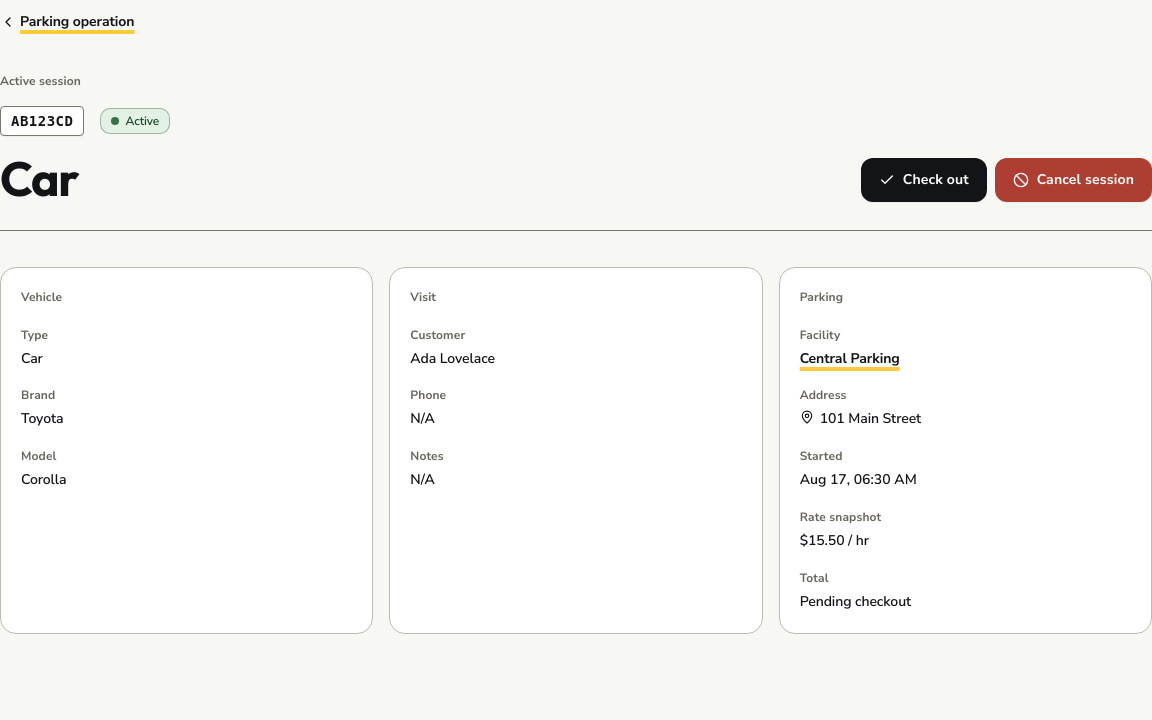
it: parking session completion › requires an explicit destructive cancellation action for an active session
Click the button "Cancel session".
click(1073, 180)  # box 995,158 -> 1151,202
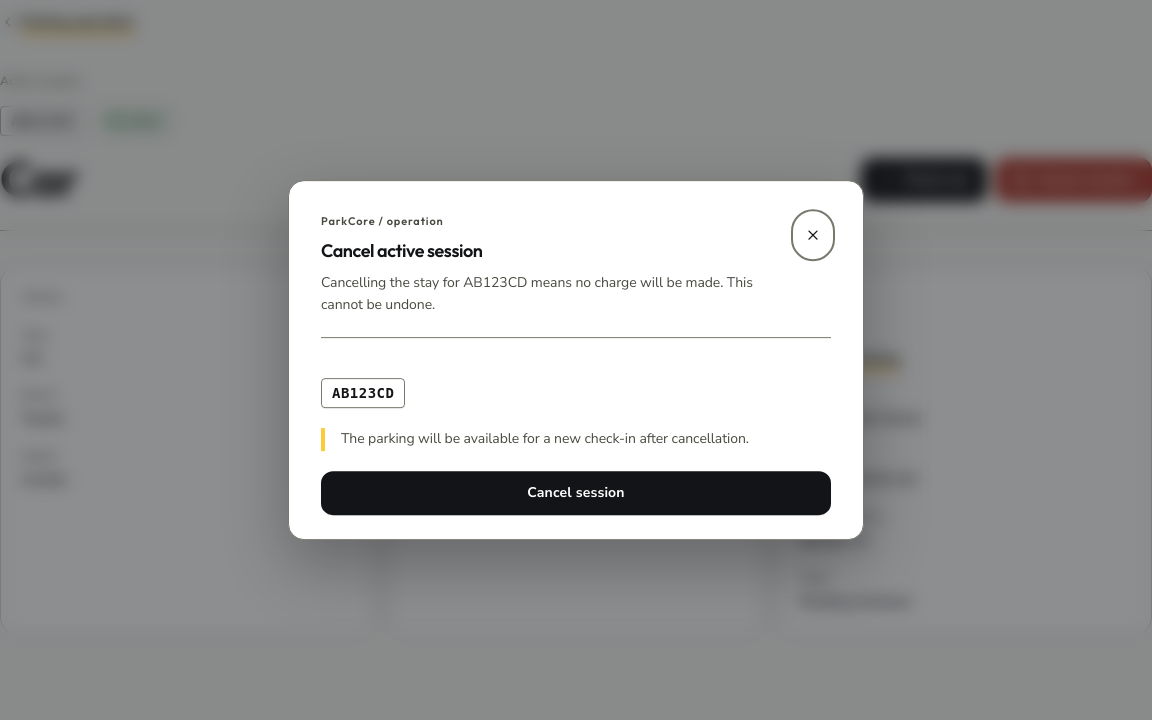
Expected: the dialog "Cancel active session" is shown, 288,180 -> 864,540
Expected: the text "The parking will be available for a new check-in after cancellation." is shown, 321,428 -> 831,451
Click the button "Cancel session".
click(576, 493)  # box 321,471 -> 831,515
(page scrolled)
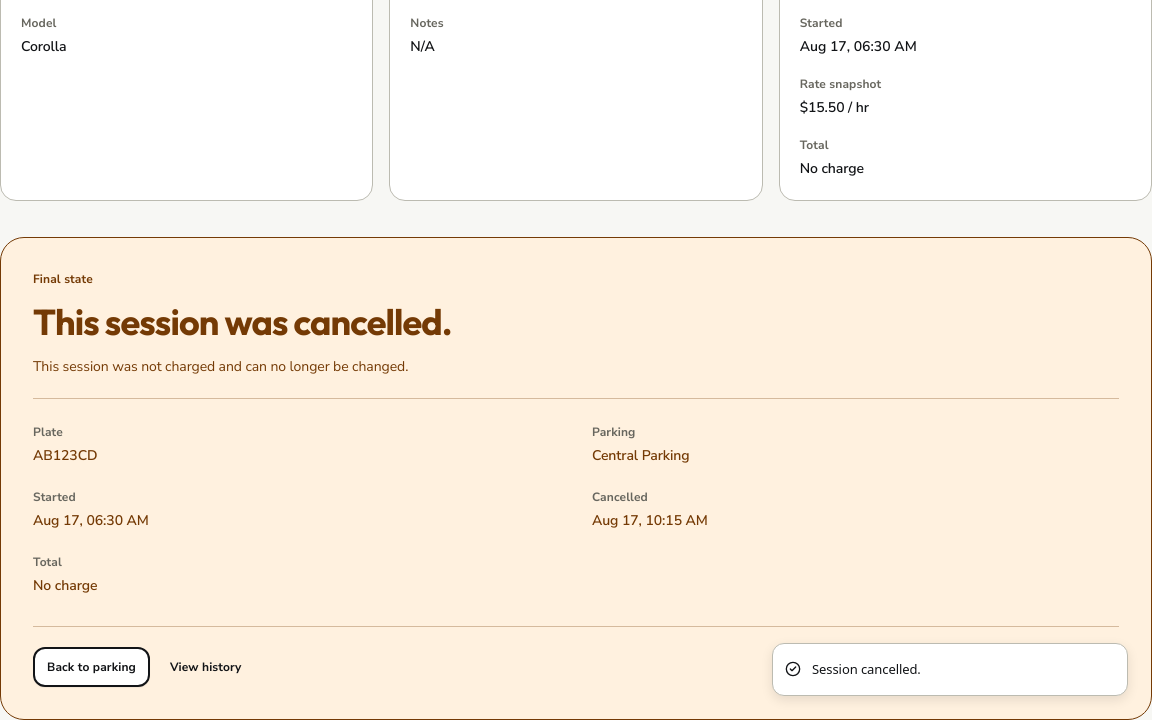
Expected: the text "Session cancelled." is shown, 812,660 -> 921,679
Expected: the element named "Cancelled session" is shown
Expected: the text "Aug 17, 10:15 AM" is shown, 592,511 -> 708,530
